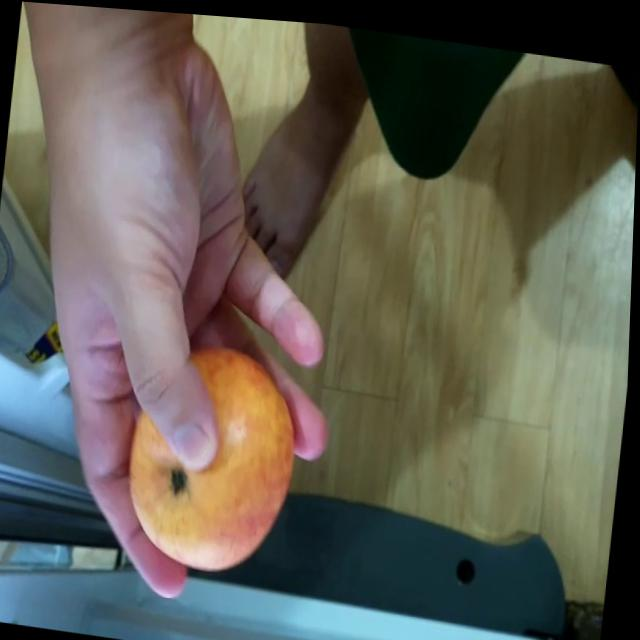apple: (126, 338, 310, 575)
